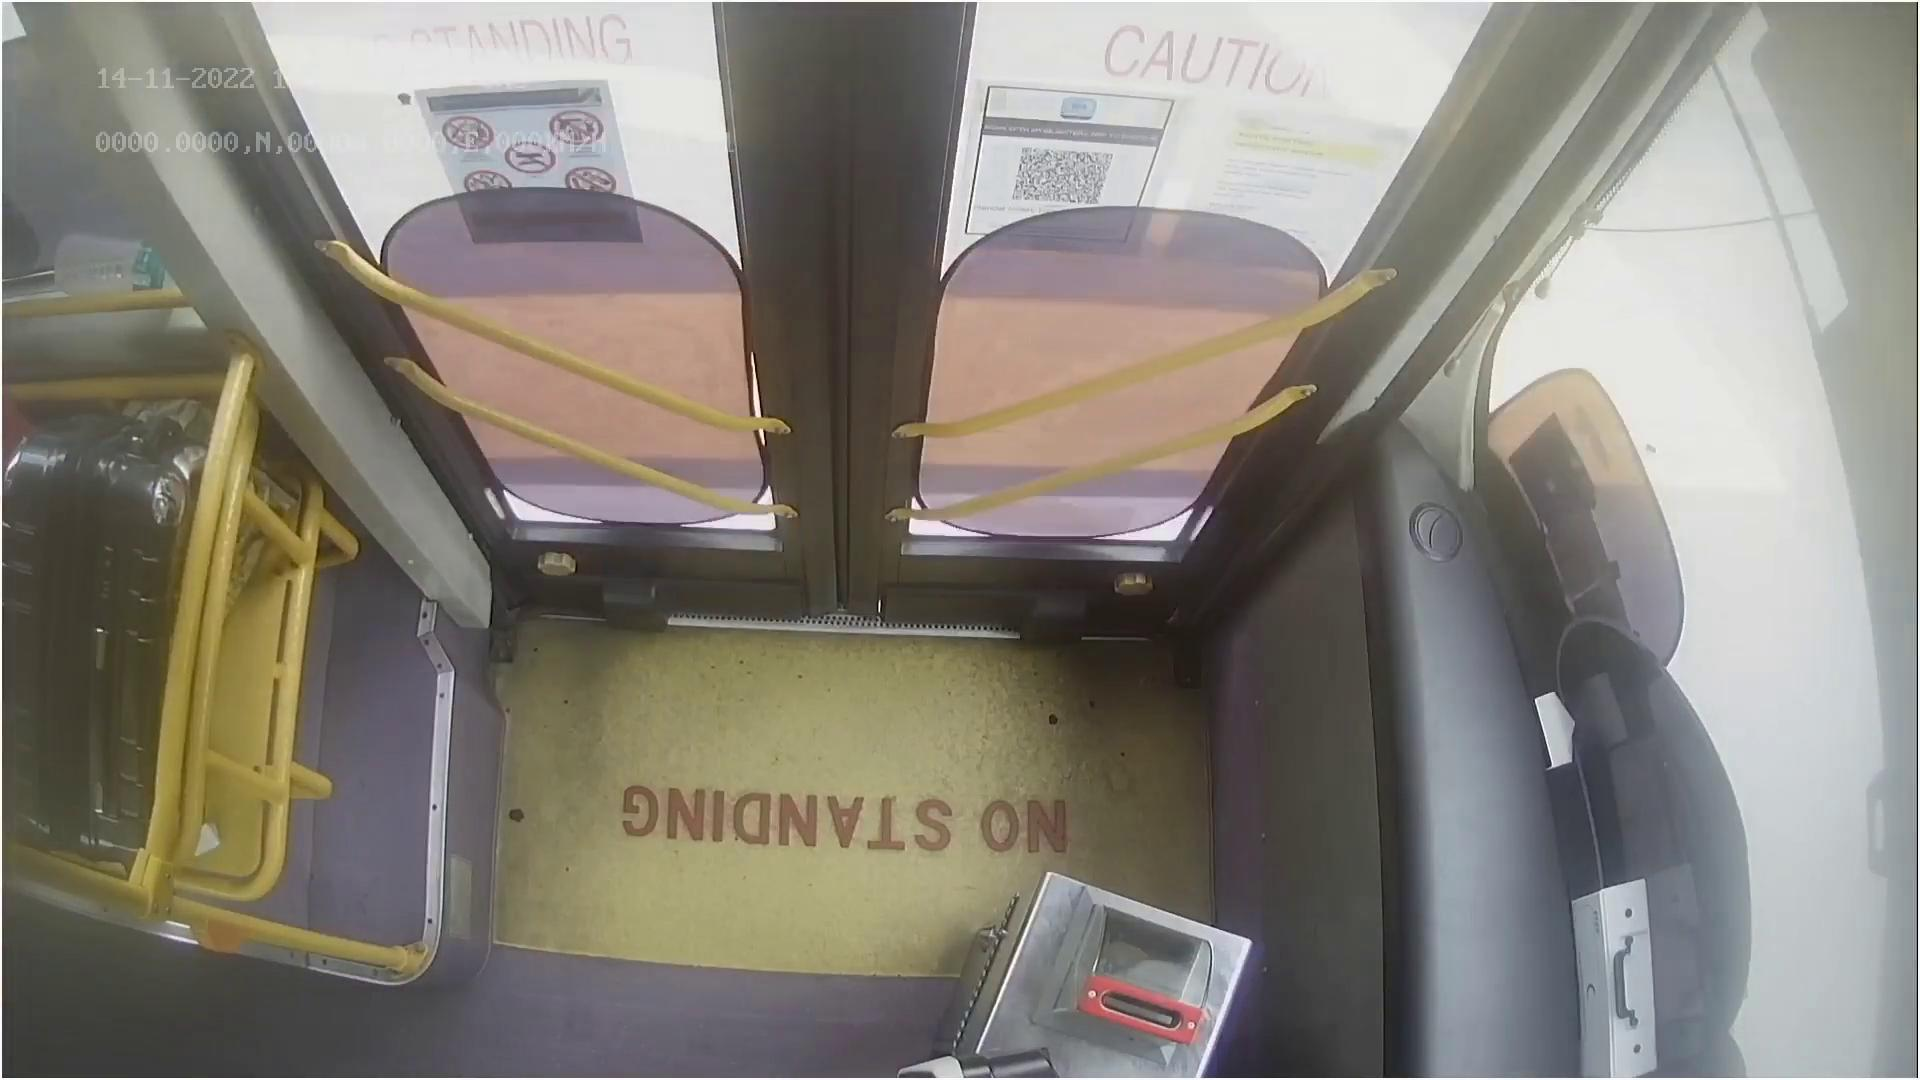close: (285, 0, 1440, 160)
